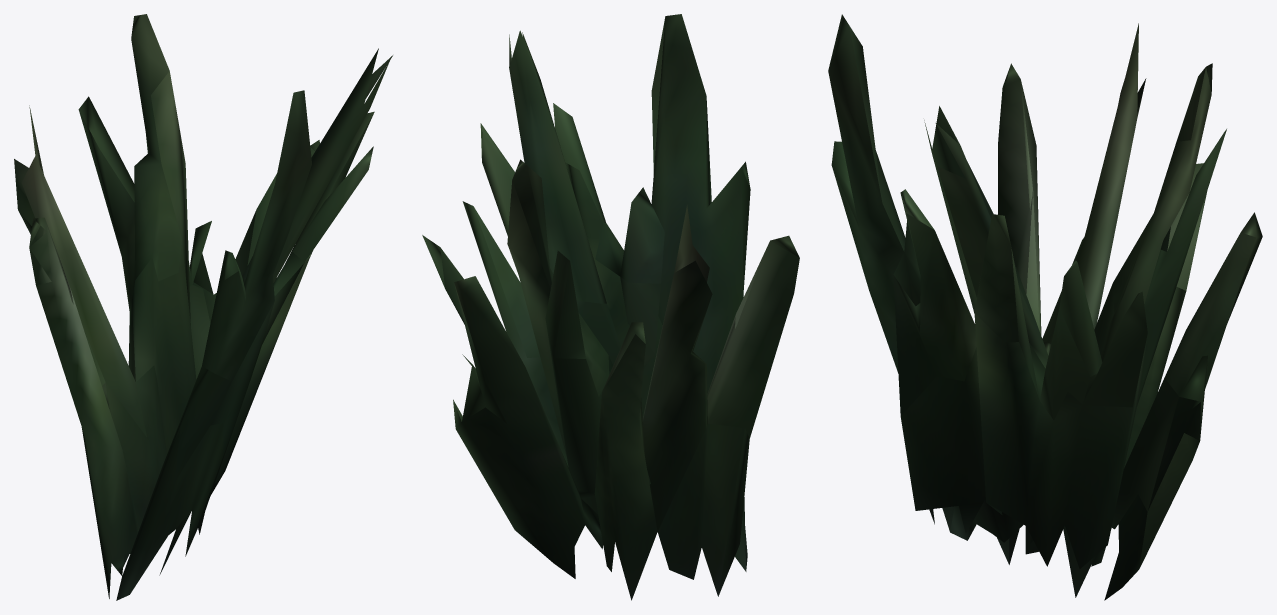
File: terrain4_plant_4.glb
3 renders of one model, left to right at view 1: azimuth 30°, elevation 25°; view 2: azimuth 150°, elevation 25°; view 3: azimuth 270°, elevation 25°, orthographic. The views are drawn at different scales.
Visible parts, largest first — view 1: plant_4; view 2: plant_4; view 3: plant_4.
Part boxes in pixels (x1=…): plant_4: x1=14, y1=14, x2=392, y2=600; plant_4: x1=422, y1=14, x2=799, y2=600; plant_4: x1=828, y1=14, x2=1262, y2=600.
Bounding box in the file's own units: 8.3 × 12.43 × 7.97.
1 material, 1 textured.
